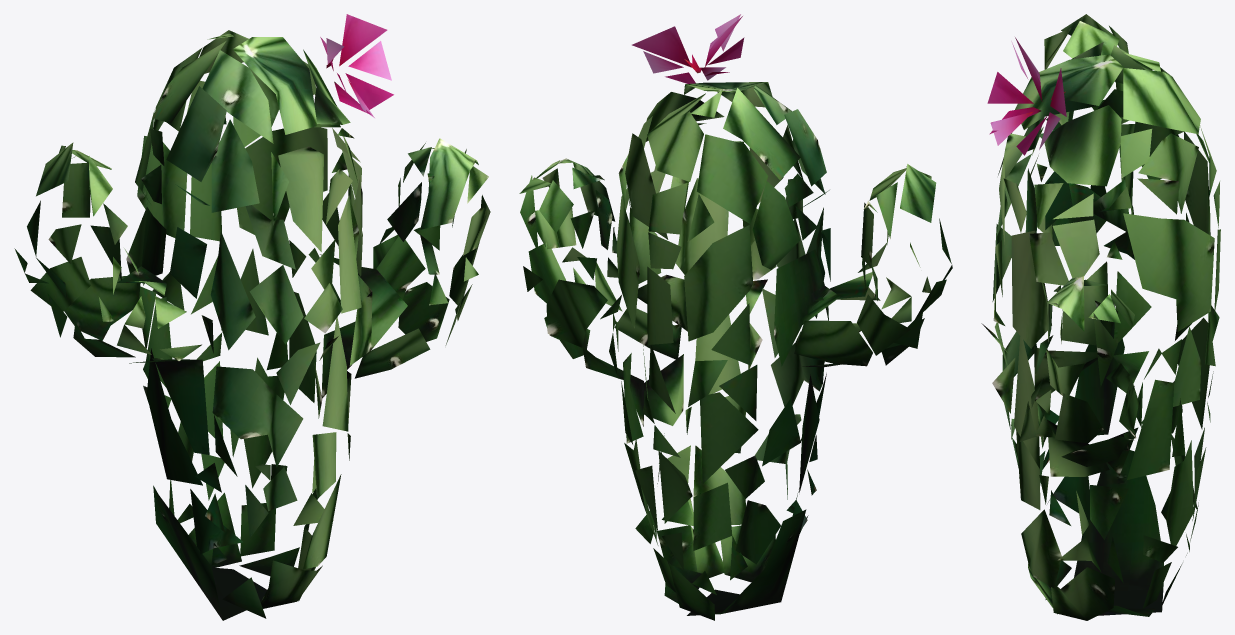
File: tripo-cacto446a-lod.glb
3 renders of one model, left to right at view 1: azimuth 30°, elevation 25°; view 2: azimuth 150°, elevation 25°; view 3: azimuth 270°, elevation 25°, orthographic. The views are drawn at different scales.
Visible parts, largest first — view 1: tripo_node_6c5b0029-9636-41d0-8e47-199d0da720b2; view 2: tripo_node_6c5b0029-9636-41d0-8e47-199d0da720b2; view 3: tripo_node_6c5b0029-9636-41d0-8e47-199d0da720b2.
Boxes of the visible parts, box(x1,y1,x2,y2) form: tripo_node_6c5b0029-9636-41d0-8e47-199d0da720b2: box(14, 14, 490, 620); tripo_node_6c5b0029-9636-41d0-8e47-199d0da720b2: box(519, 14, 952, 620); tripo_node_6c5b0029-9636-41d0-8e47-199d0da720b2: box(981, 14, 1220, 620).
Bounding box in the file's own units: 0.7714 × 0.9585 × 0.3546.
Materials: 1 (1 with a texture image).
